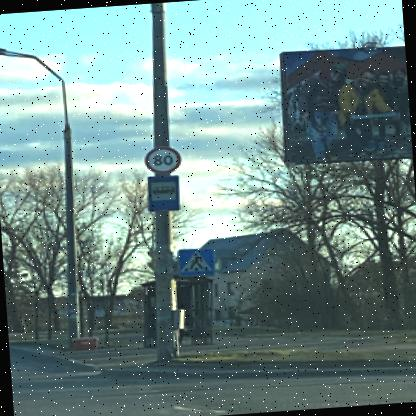crosswalk: (172, 243, 214, 278)
speedlimit: (141, 145, 181, 175)
